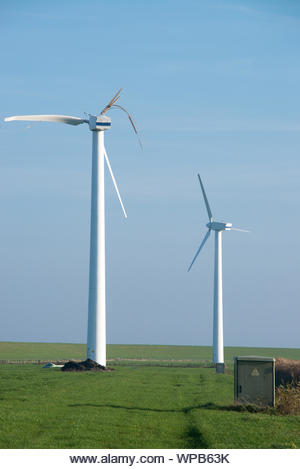faulty: (7, 86, 148, 212)
working: (181, 171, 253, 353)
